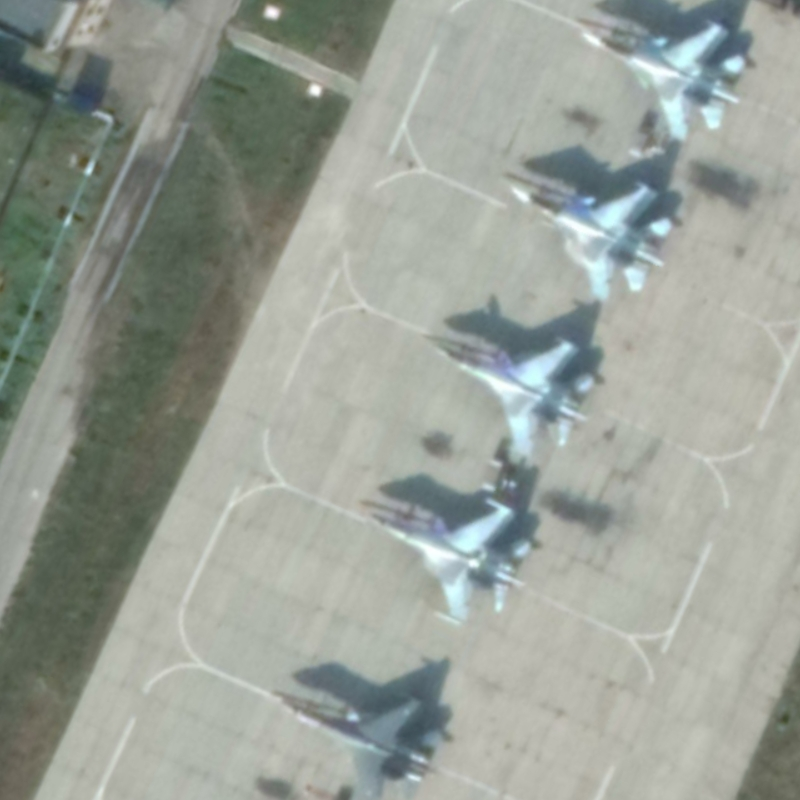A1: (369, 492, 537, 630), (432, 333, 595, 461), (284, 687, 439, 800)
A19: (579, 17, 748, 144), (508, 178, 675, 303)
